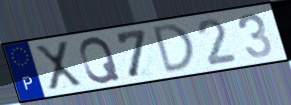2: (196, 18, 240, 69)
3: (237, 13, 273, 59)
7: (113, 29, 151, 81)
D: (151, 22, 198, 76)
Q: (78, 35, 123, 85)
X: (32, 39, 85, 93)
